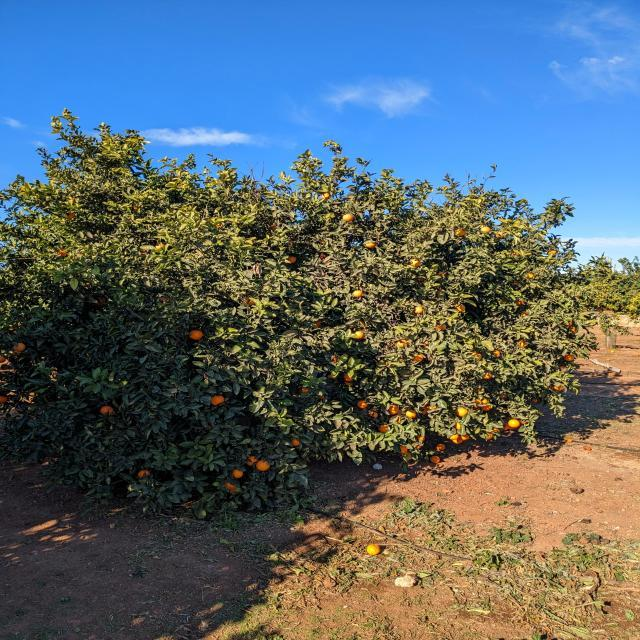Jeruk Sudah Matang: (256, 459, 270, 472), (100, 406, 113, 416), (190, 330, 203, 340), (242, 296, 255, 306), (212, 395, 224, 405), (388, 405, 400, 415), (245, 456, 258, 464), (457, 408, 468, 417), (232, 469, 244, 477), (454, 304, 466, 312), (405, 410, 417, 418), (396, 340, 408, 348), (225, 481, 236, 489), (508, 420, 519, 428), (412, 354, 423, 362), (137, 470, 149, 477), (14, 344, 26, 351), (458, 434, 470, 441), (56, 248, 66, 256), (343, 214, 353, 222), (410, 258, 420, 266), (456, 228, 466, 236), (480, 226, 490, 234), (518, 340, 528, 348), (472, 352, 482, 360), (430, 456, 440, 464), (398, 446, 408, 454), (378, 424, 388, 432), (418, 407, 428, 415), (344, 374, 354, 382), (357, 401, 368, 408), (426, 404, 438, 410), (355, 331, 364, 339), (483, 372, 493, 379), (402, 453, 412, 460), (352, 290, 362, 297), (448, 434, 459, 440), (292, 438, 300, 446), (288, 256, 296, 264), (415, 306, 423, 314), (473, 399, 481, 407), (321, 193, 330, 200), (64, 212, 74, 218), (366, 242, 376, 248), (524, 274, 534, 280), (452, 438, 462, 444), (156, 243, 164, 250), (481, 398, 488, 406), (454, 423, 462, 430), (436, 444, 444, 451), (314, 321, 322, 328), (565, 355, 574, 361), (369, 412, 378, 418), (360, 321, 370, 326), (1, 397, 8, 404), (496, 232, 504, 238), (516, 300, 524, 306), (492, 350, 500, 356), (327, 374, 335, 380), (159, 297, 168, 302), (440, 324, 446, 331), (436, 324, 442, 331), (554, 386, 564, 390), (482, 406, 492, 410), (344, 382, 352, 387), (548, 250, 556, 254), (416, 436, 424, 440), (0, 356, 5, 362), (302, 388, 308, 393), (334, 355, 339, 361), (520, 312, 526, 316), (318, 396, 324, 400), (559, 366, 567, 368), (502, 301, 506, 304)
